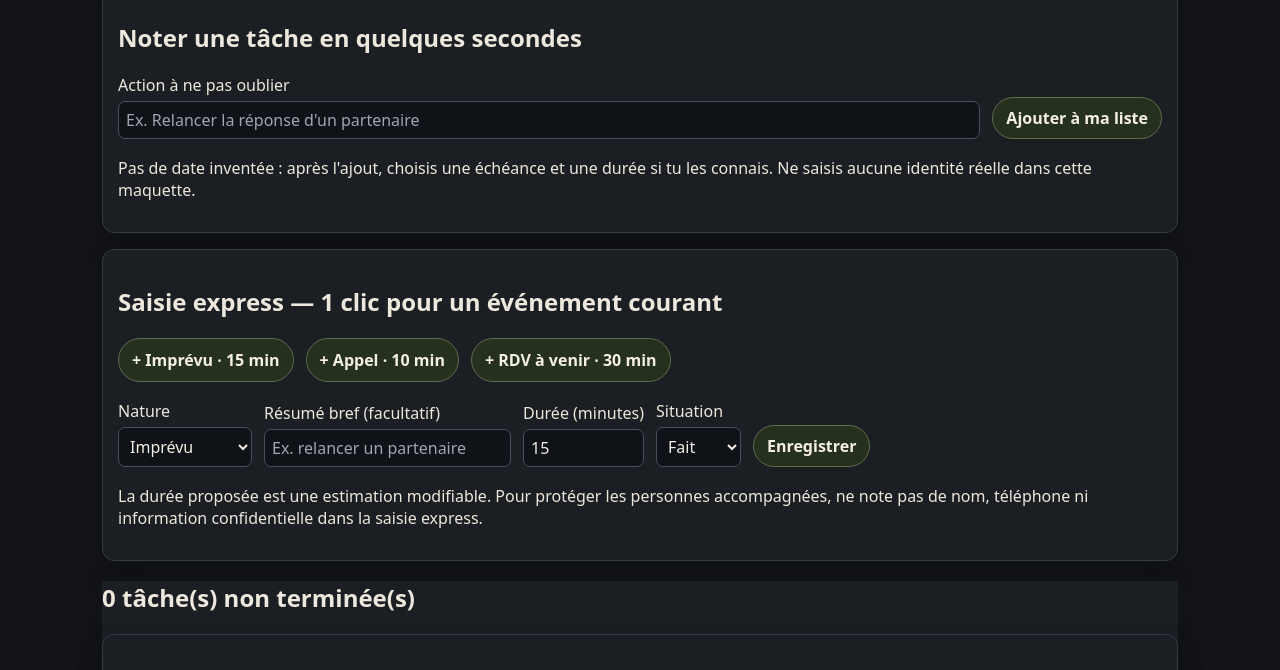
Test: bureau de charge et saisie express (démonstration) › permet de consigner un rendez-vous rapide comme charge à venir
This screenshot has width=1280, height=670.
(page scrolled)
Step 1. Click the button "+ RDV à venir · 30 min" → {"x": 571, "y": 360}, box [471,338,670,382]
(page scrolled)
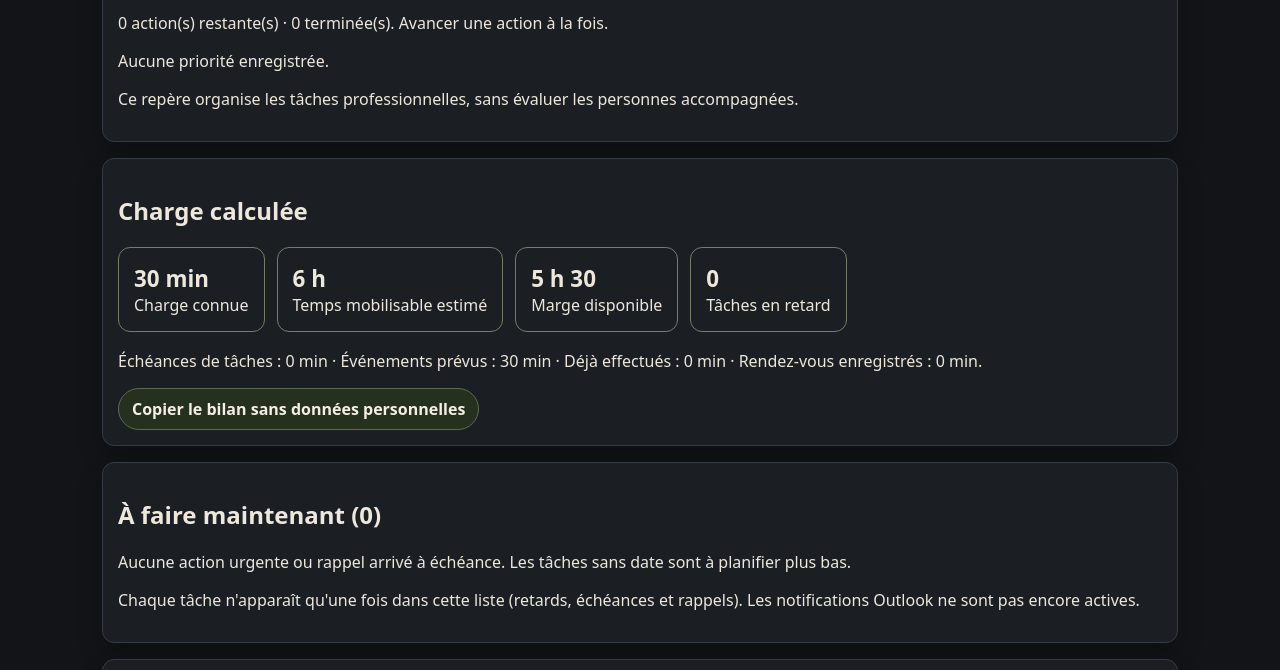
Expected: the text "Événements prévus : 30 min" is shown, [118,350,982,372]
